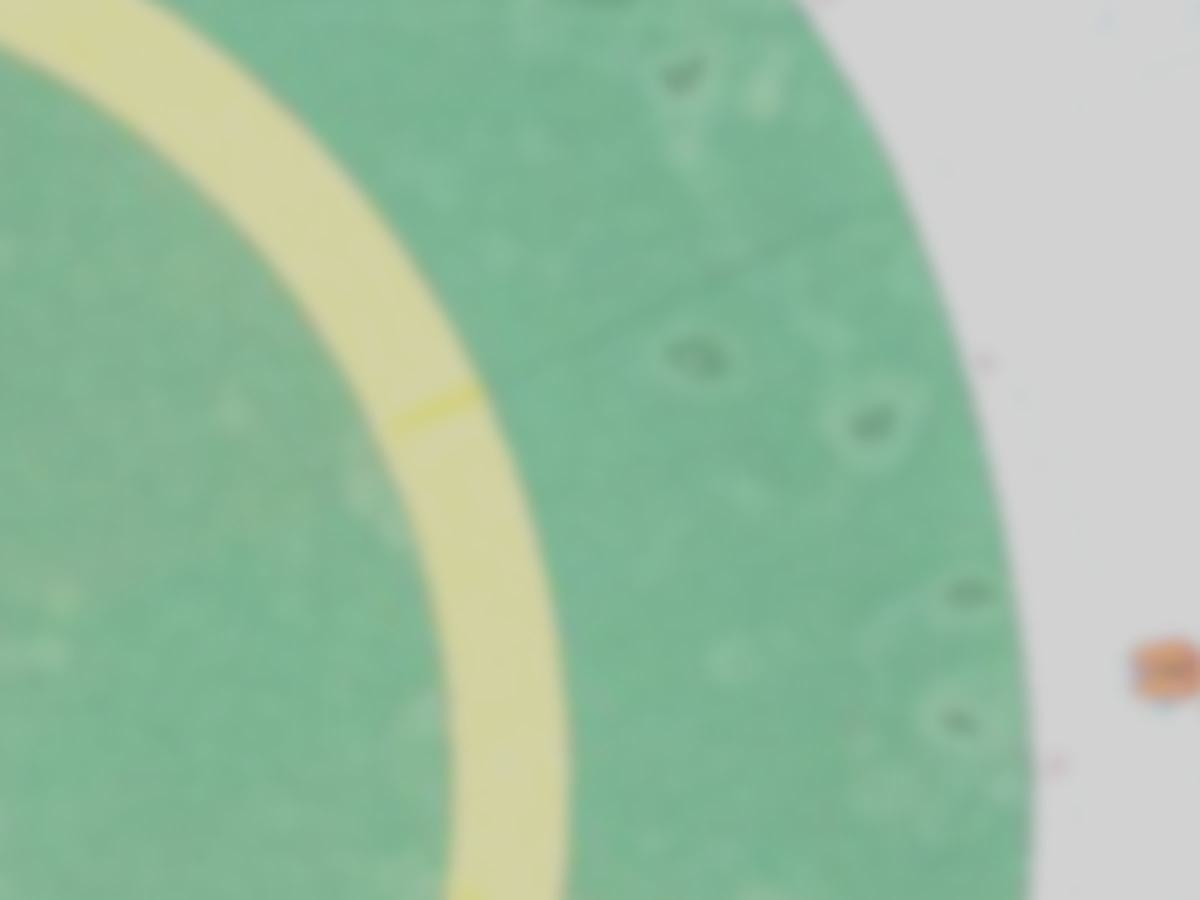Apron: (1, 1, 622, 888)
